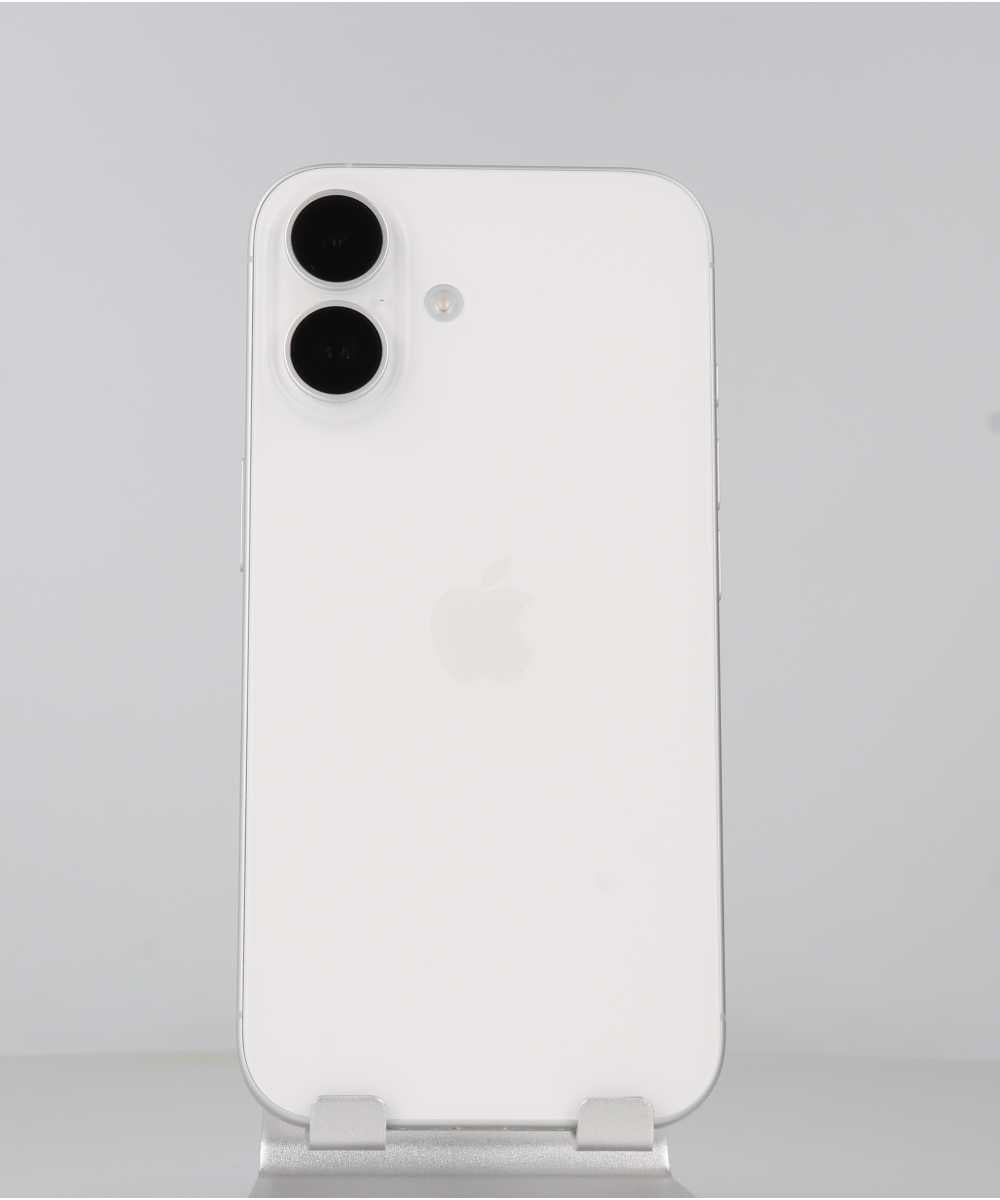iphone16_white: (219, 118, 725, 1141), (260, 179, 510, 421)
